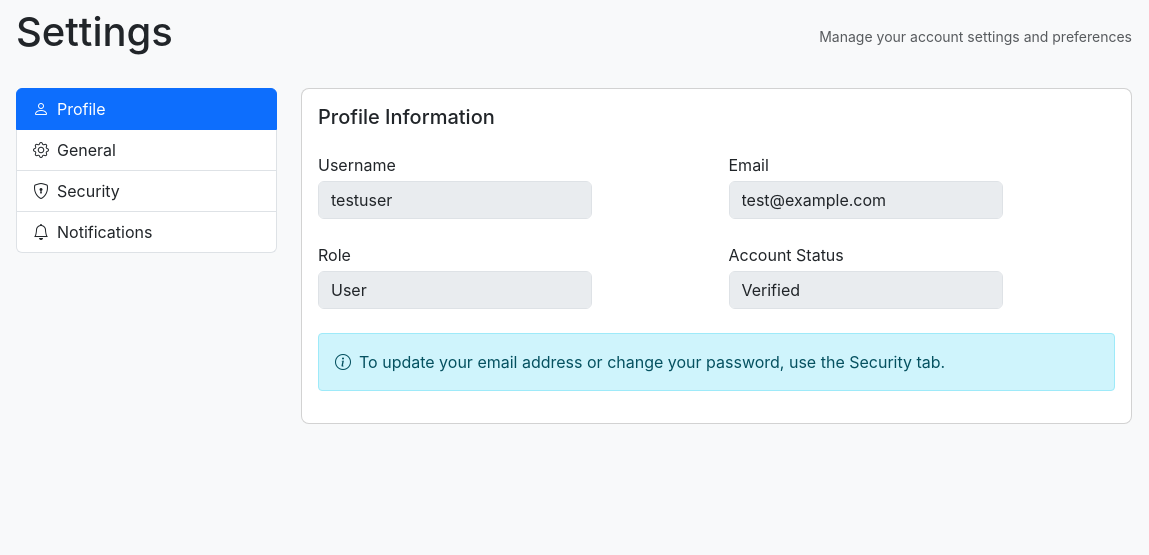
Settings Component › switches to General tab and displays settings
Click the button "General": (86, 150) 16,130 -> 277,171
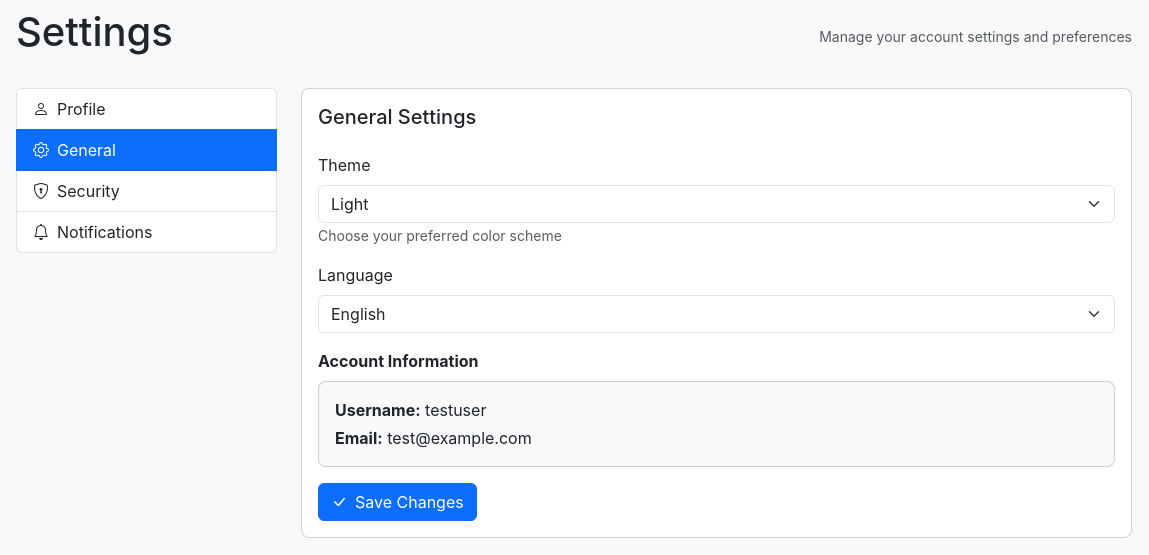
Now the dropdown labelled "Theme" is shown, box 318,185 -> 1115,223
Now the dropdown labelled "Language" is shown, box 318,295 -> 1115,333
